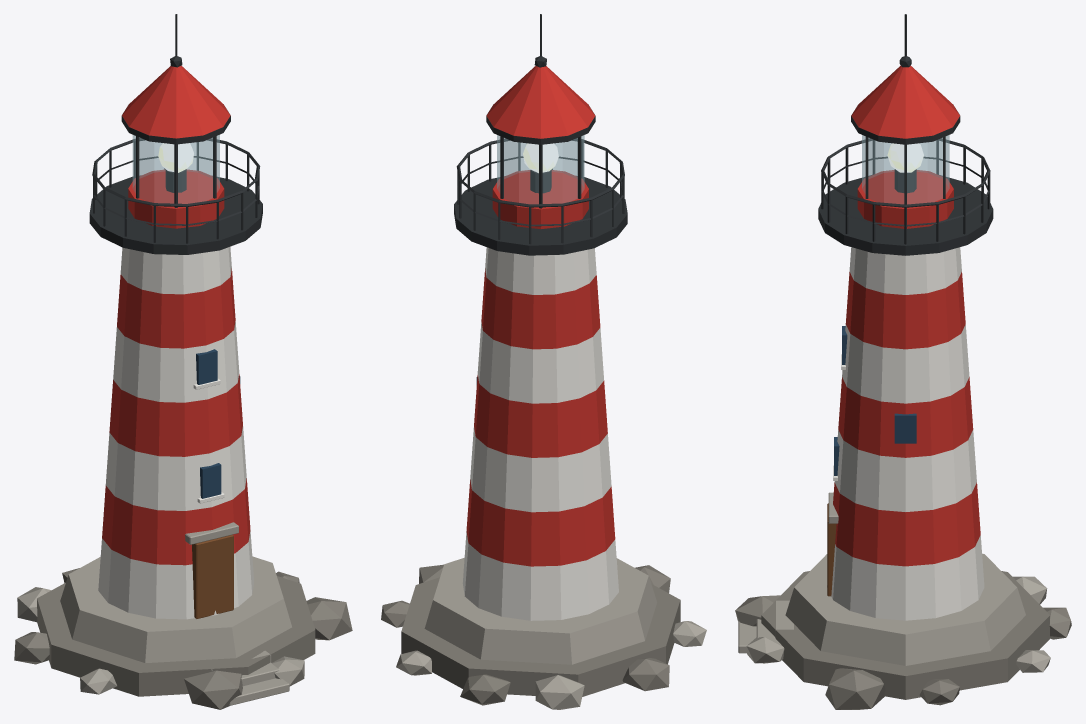
File: harbor_lighthouse_v01.glb
3 views of the same model, side by side, from view 1: azimuth 30°, elevation 25°; view 2: azimuth 150°, elevation 25°; view 3: azimuth 270°, elevation 25° (orthographic).
Parts seen in each view (by area): view 1: lighthouse; view 2: lighthouse; view 3: lighthouse.
Boxes of the visible parts, <box> form: lighthouse: <box>14,14,352,709</box>; lighthouse: <box>381,14,706,709</box>; lighthouse: <box>735,14,1071,709</box>.
Size of the model in its own units: 7.68 by 16.09 by 7.7.
